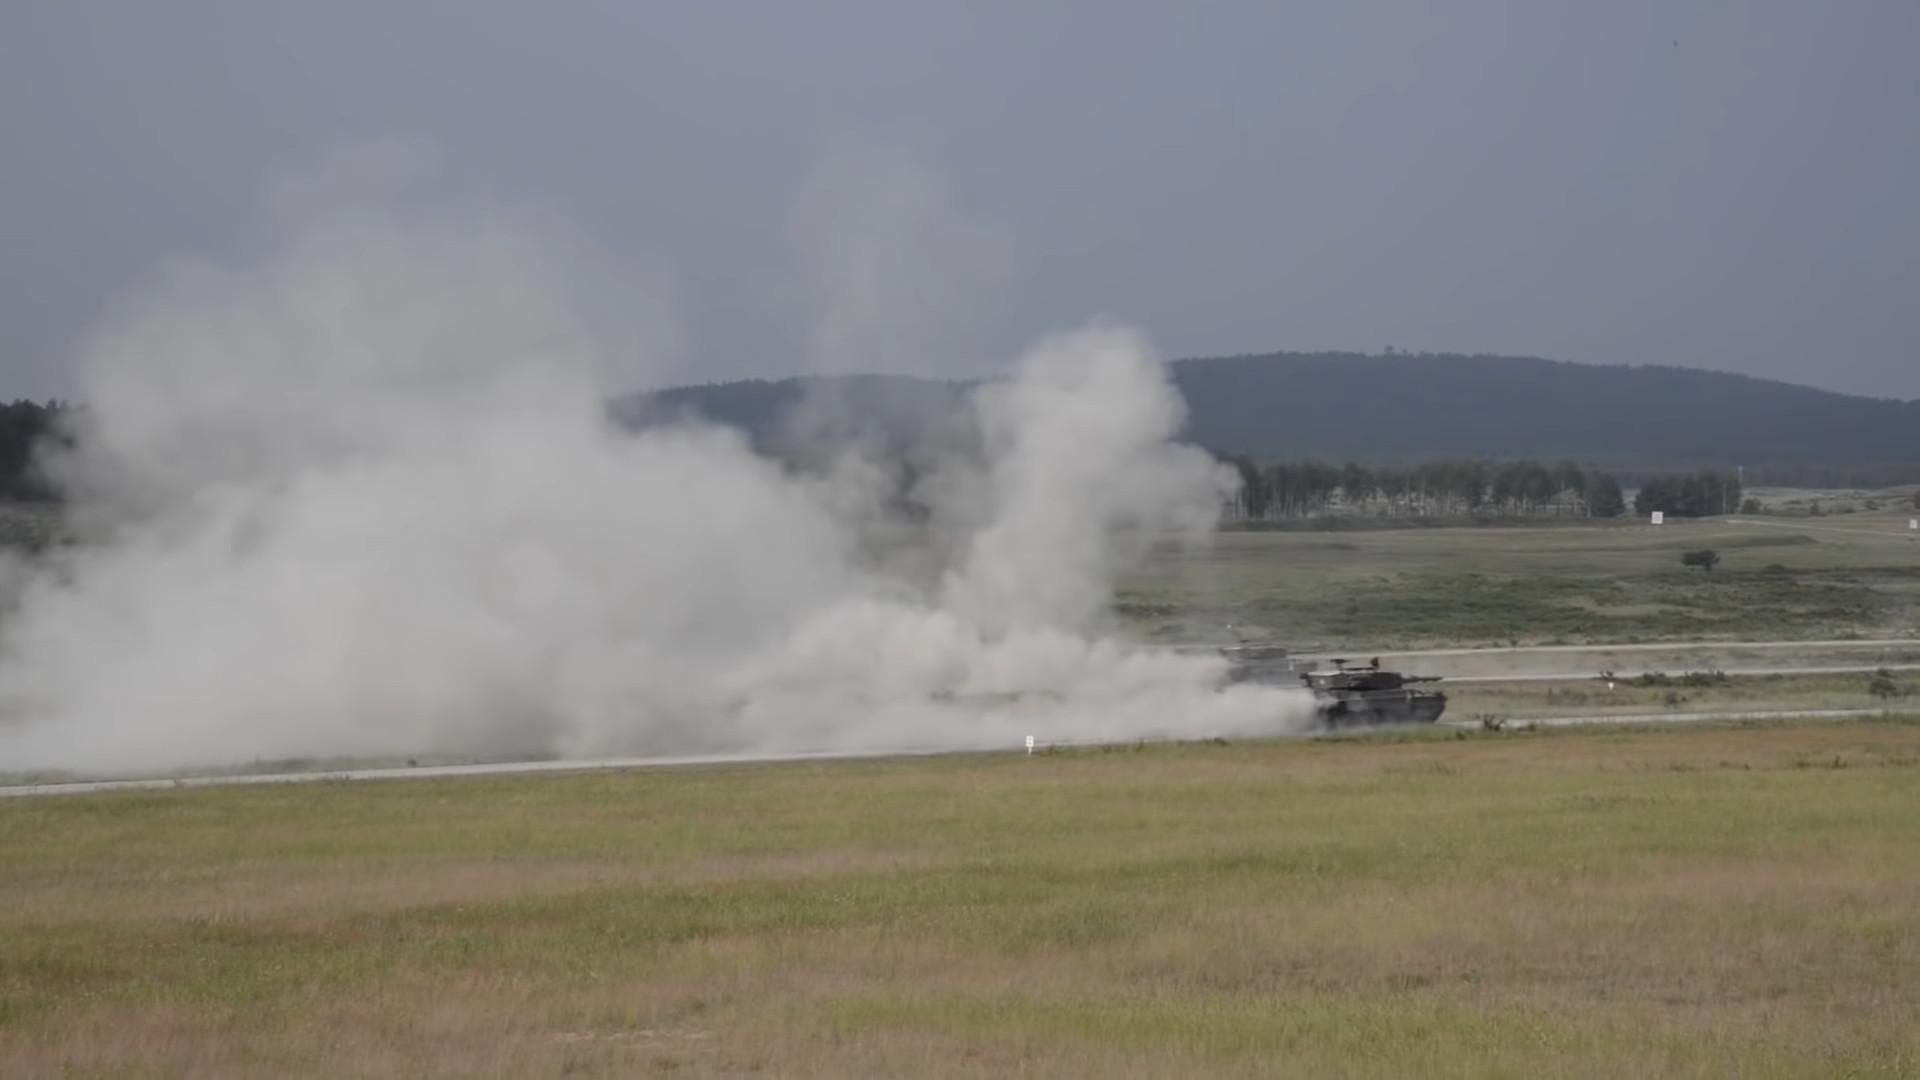tank: (1302, 673, 1448, 731), (1220, 646, 1317, 683)
